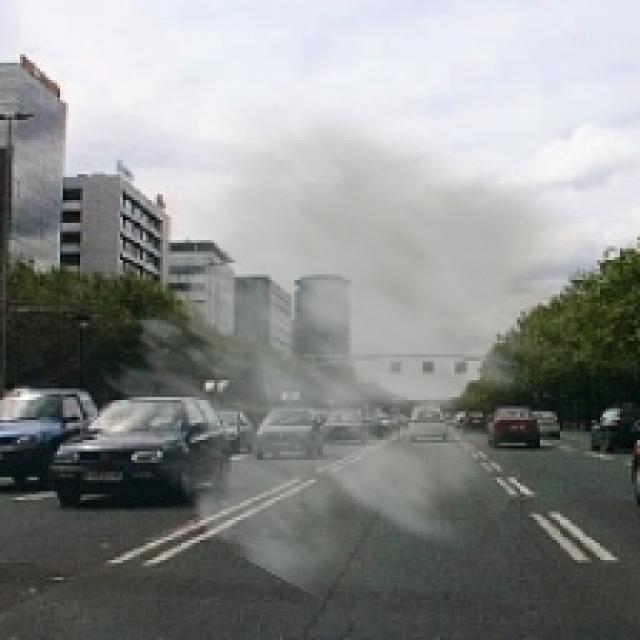smoke: (100, 94, 626, 617)
